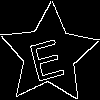E: (24, 29, 67, 83)
